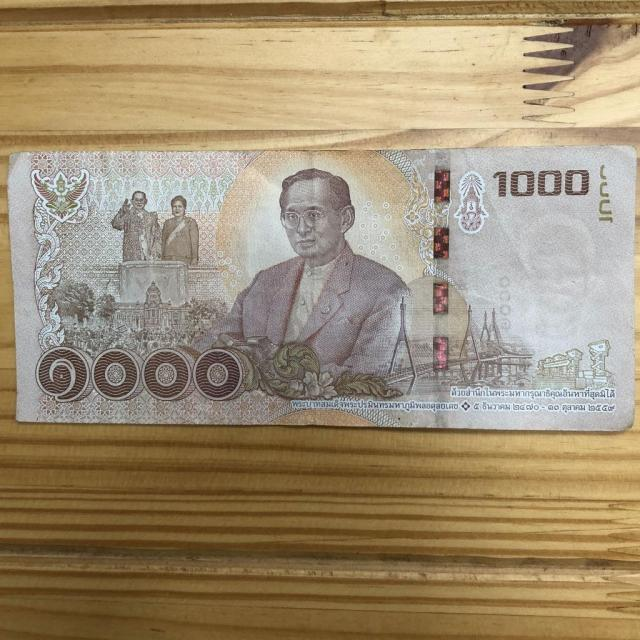THAI1000: (10, 145, 635, 431)
